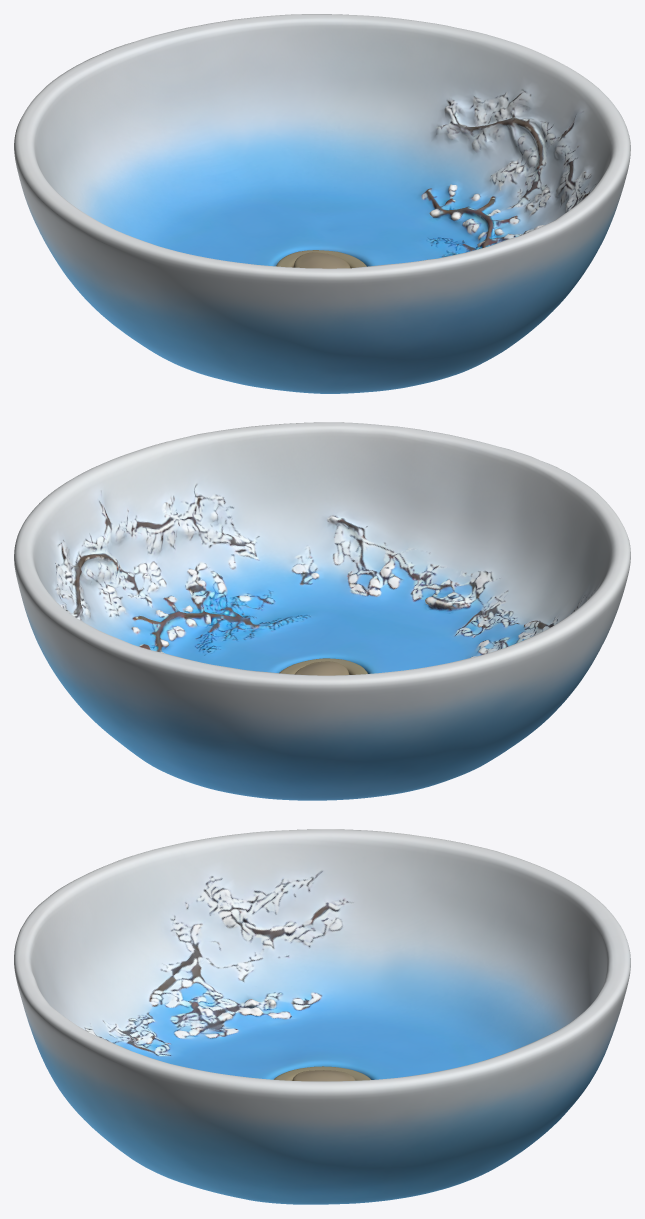
Rendered from candidate-basin.glb.
3 views of the same model, one above another, from view 1: azimuth 30°, elevation 25°; view 2: azimuth 150°, elevation 25°; view 3: azimuth 270°, elevation 25° (orthographic).
Parts seen in each view (by area): view 1: model; view 2: model; view 3: model.
Part boxes in pixels (<box>): model: <box>14,14,630,393</box>; model: <box>14,422,630,800</box>; model: <box>14,829,630,1204</box>.
Bounding box in the file's own units: 1.9 × 0.562 × 1.9.
1 material, 1 textured.
